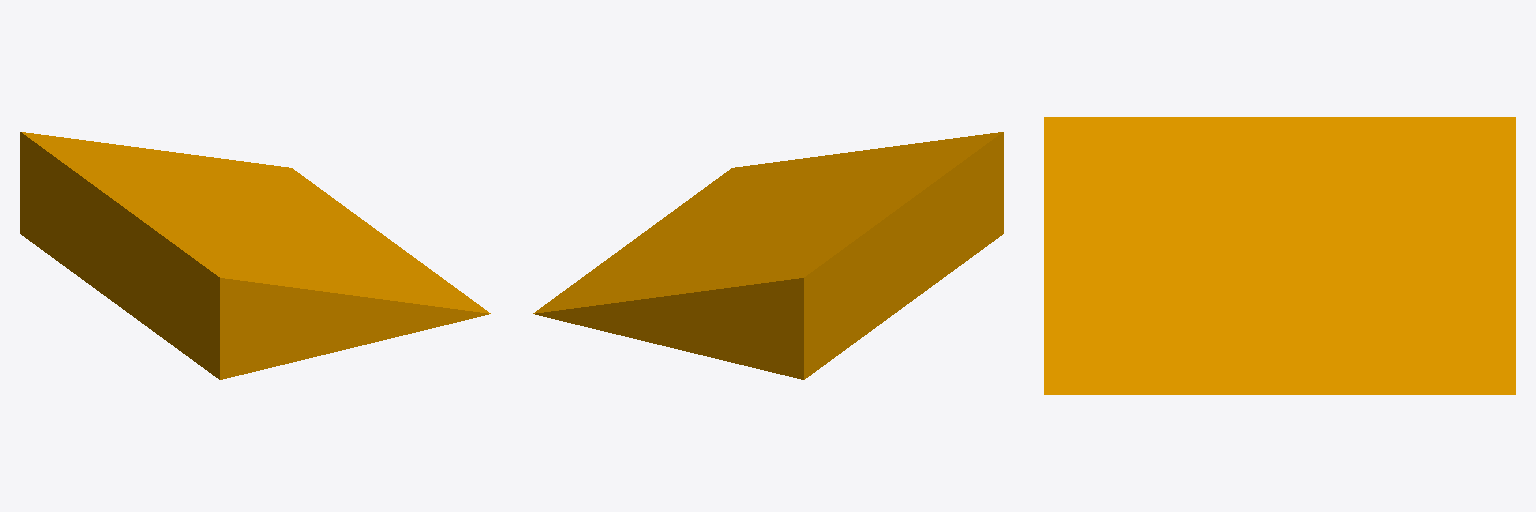
URDF robot description (wedge):
<?xml version="1.0"?>
<!-- created with Phobos 0.7 -->
  <robot name="wedge">

    <link name="l_ab_ad">
      <inertial>
        <origin xyz="8e-05 0.02446 -0.00146" rpy="0 0 0"/>
        <mass value="1000000"/>
        <inertia ixx="0.00196" ixy="0" ixz="0" iyy="0.00133" iyz="-2e-05" izz="0.0023"/>
      </inertial>
      <visual name="mesh.002">
        <origin xyz="8e-05 0.02446 -0.00146" rpy="0 0 0"/>
        <geometry>
          <mesh filename="ramp2.stl" scale="0.03 0.03 0.01"/>
        </geometry>
        <material name="Material"/>
      </visual>
      <collision name="mesh.002">
        <origin xyz="0 0.00015 -0.00044" rpy="0 0 0"/>
        <geometry>
          <mesh filename="ramp2.stl" scale="0.03 0.03 0.01"/>
        </geometry>
      </collision>
    </link>


  </robot>

--- Facts derived from the render (not from the file) ---
3 views of the same robot in one strip: view 1: azimuth 30°, elevation 25°; view 2: azimuth 150°, elevation 25°; view 3: azimuth 270°, elevation 25° (orthographic).
Robot: wedge — 1 links, 0 joints (none); root link l_ab_ad; default pose: every joint at zero.
Visible links, largest first — view 1: l_ab_ad; view 2: l_ab_ad; view 3: l_ab_ad.
Boxes of the visible links, <box> form: l_ab_ad: <box>20,132,490,379</box>; l_ab_ad: <box>533,132,1003,379</box>; l_ab_ad: <box>1044,117,1515,394</box>.
Bounding box of the posed robot: 3.3 × 4.2 × 1.19 m (x, y, z).
1 mesh visuals loaded from 1 distinct referenced files (1 binary STL).
